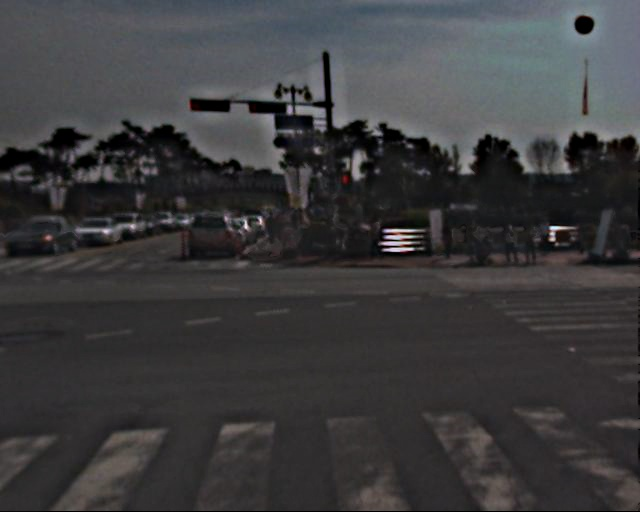person: (265, 208, 304, 241), (322, 212, 344, 266), (439, 215, 460, 265), (368, 217, 388, 265), (464, 217, 483, 264), (522, 217, 541, 264), (503, 224, 521, 268), (537, 215, 555, 259), (617, 215, 632, 251)
